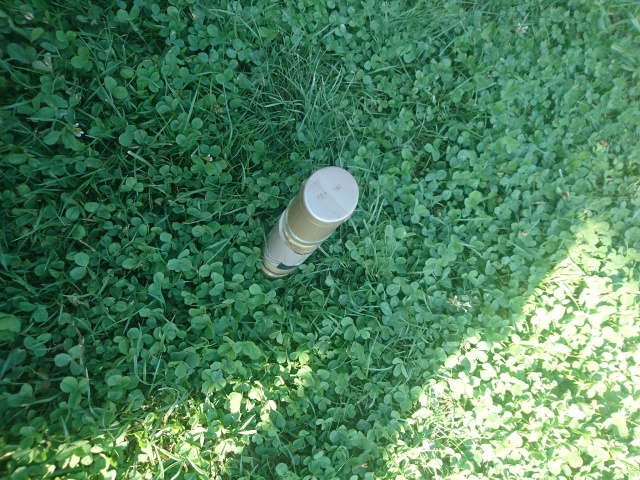Kotanyi Garlic Granules 70g: (247, 163, 362, 283)
